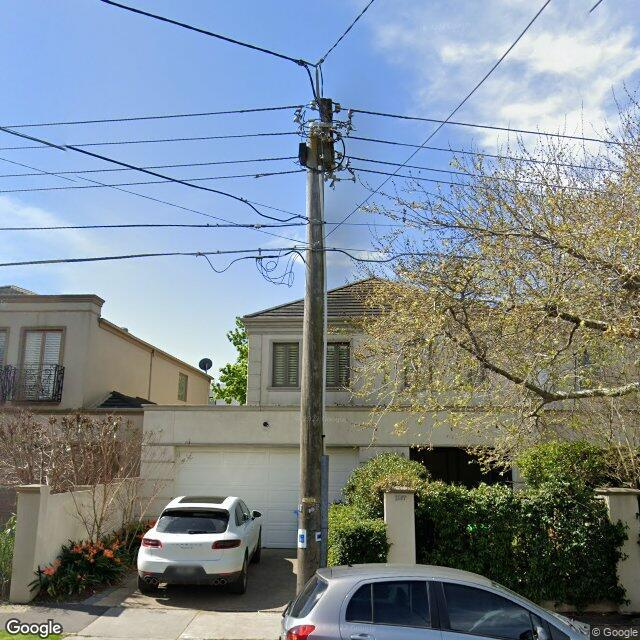crossarm: (310, 97, 344, 179)
timber-pole: (296, 134, 323, 598)
